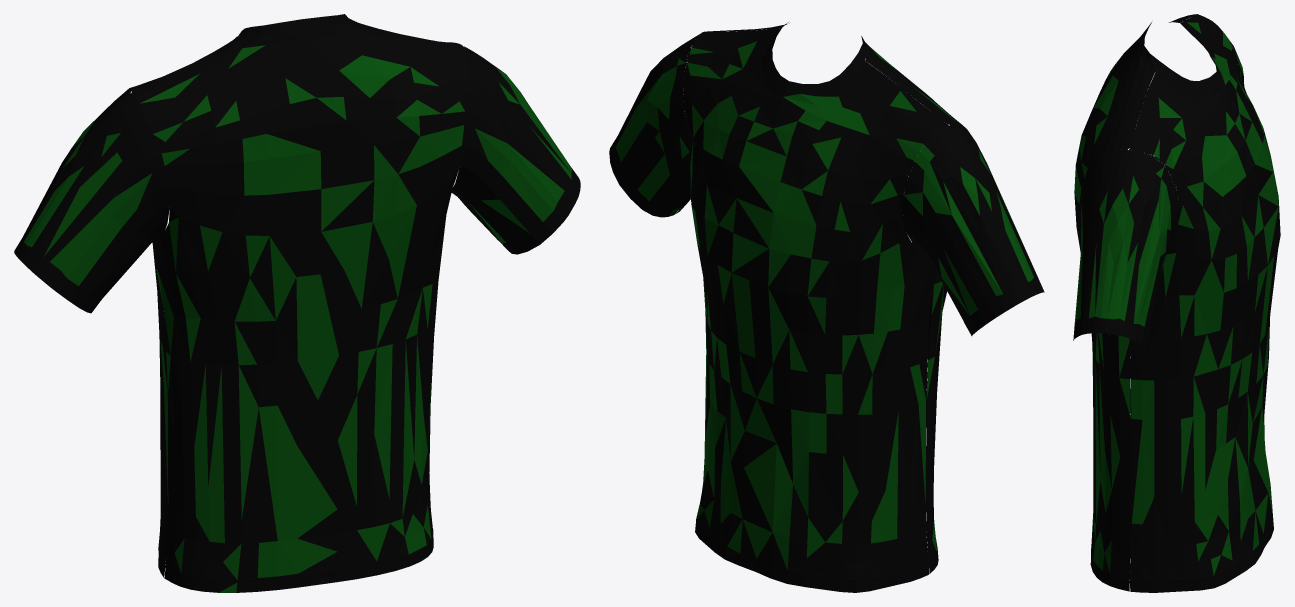
Rendered from polera_poly.glb.
3 renders of one model, left to right at view 1: azimuth 30°, elevation 25°; view 2: azimuth 150°, elevation 25°; view 3: azimuth 270°, elevation 25°, orthographic. The views are drawn at different scales.
Parts seen in each view (by area): view 1: world; view 2: world; view 3: world.
Part boxes in pixels (<box>): world: <box>14,14,580,592</box>; world: <box>609,22,1044,592</box>; world: <box>1073,14,1280,592</box>.
Bounding box in the file's own units: 341449 × 352917 × 130433.
1 material, 1 textured.
